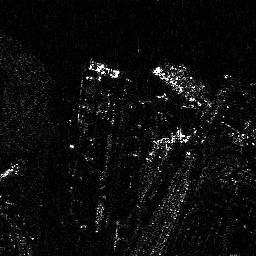ship: (88, 58, 120, 79)
